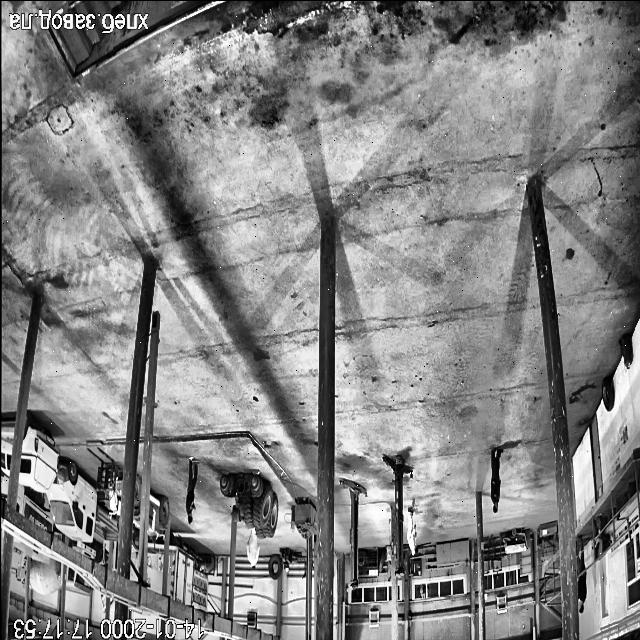car lift: (383, 455, 412, 576), (340, 479, 364, 588)
fire extinguisher: (619, 334, 632, 368)
mechanic: (185, 458, 197, 524), (576, 535, 586, 612), (490, 448, 502, 512), (246, 527, 260, 570), (408, 508, 416, 556)
tractor: (220, 474, 278, 538)
truck: (47, 461, 116, 541), (166, 534, 207, 612), (20, 412, 59, 492), (16, 484, 52, 532), (98, 464, 122, 529), (144, 493, 169, 542), (30, 557, 62, 594), (147, 540, 164, 594), (14, 537, 48, 562), (0, 420, 14, 475), (73, 540, 106, 563), (66, 567, 92, 596), (132, 476, 141, 551), (16, 557, 24, 583), (0, 476, 8, 499), (130, 567, 136, 580), (100, 596, 104, 608), (132, 572, 136, 580), (100, 485, 104, 487), (111, 604, 112, 610), (166, 532, 168, 534), (111, 610, 112, 612)
